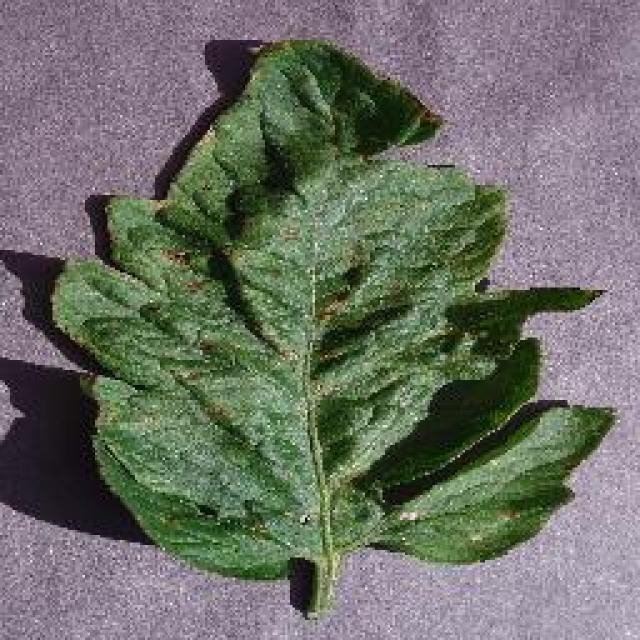Tomato Septoria spot leaf: (47, 36, 615, 582)
